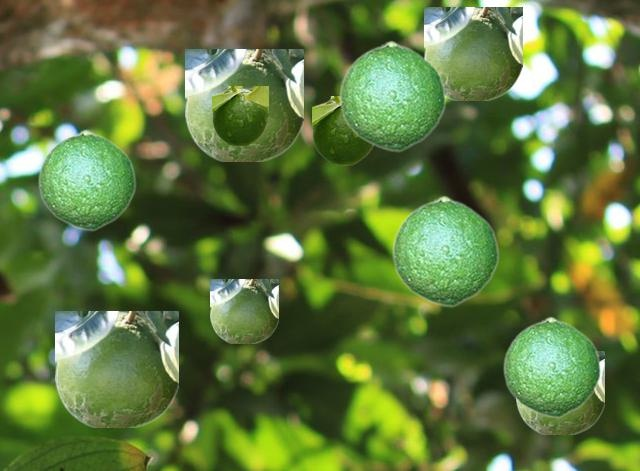dalandan: (55, 311, 177, 426), (185, 49, 302, 160), (391, 195, 498, 306), (338, 40, 445, 151), (502, 316, 600, 417), (37, 129, 135, 230), (424, 7, 521, 99), (516, 351, 603, 433), (210, 279, 277, 342), (312, 96, 373, 164), (212, 86, 267, 145)
